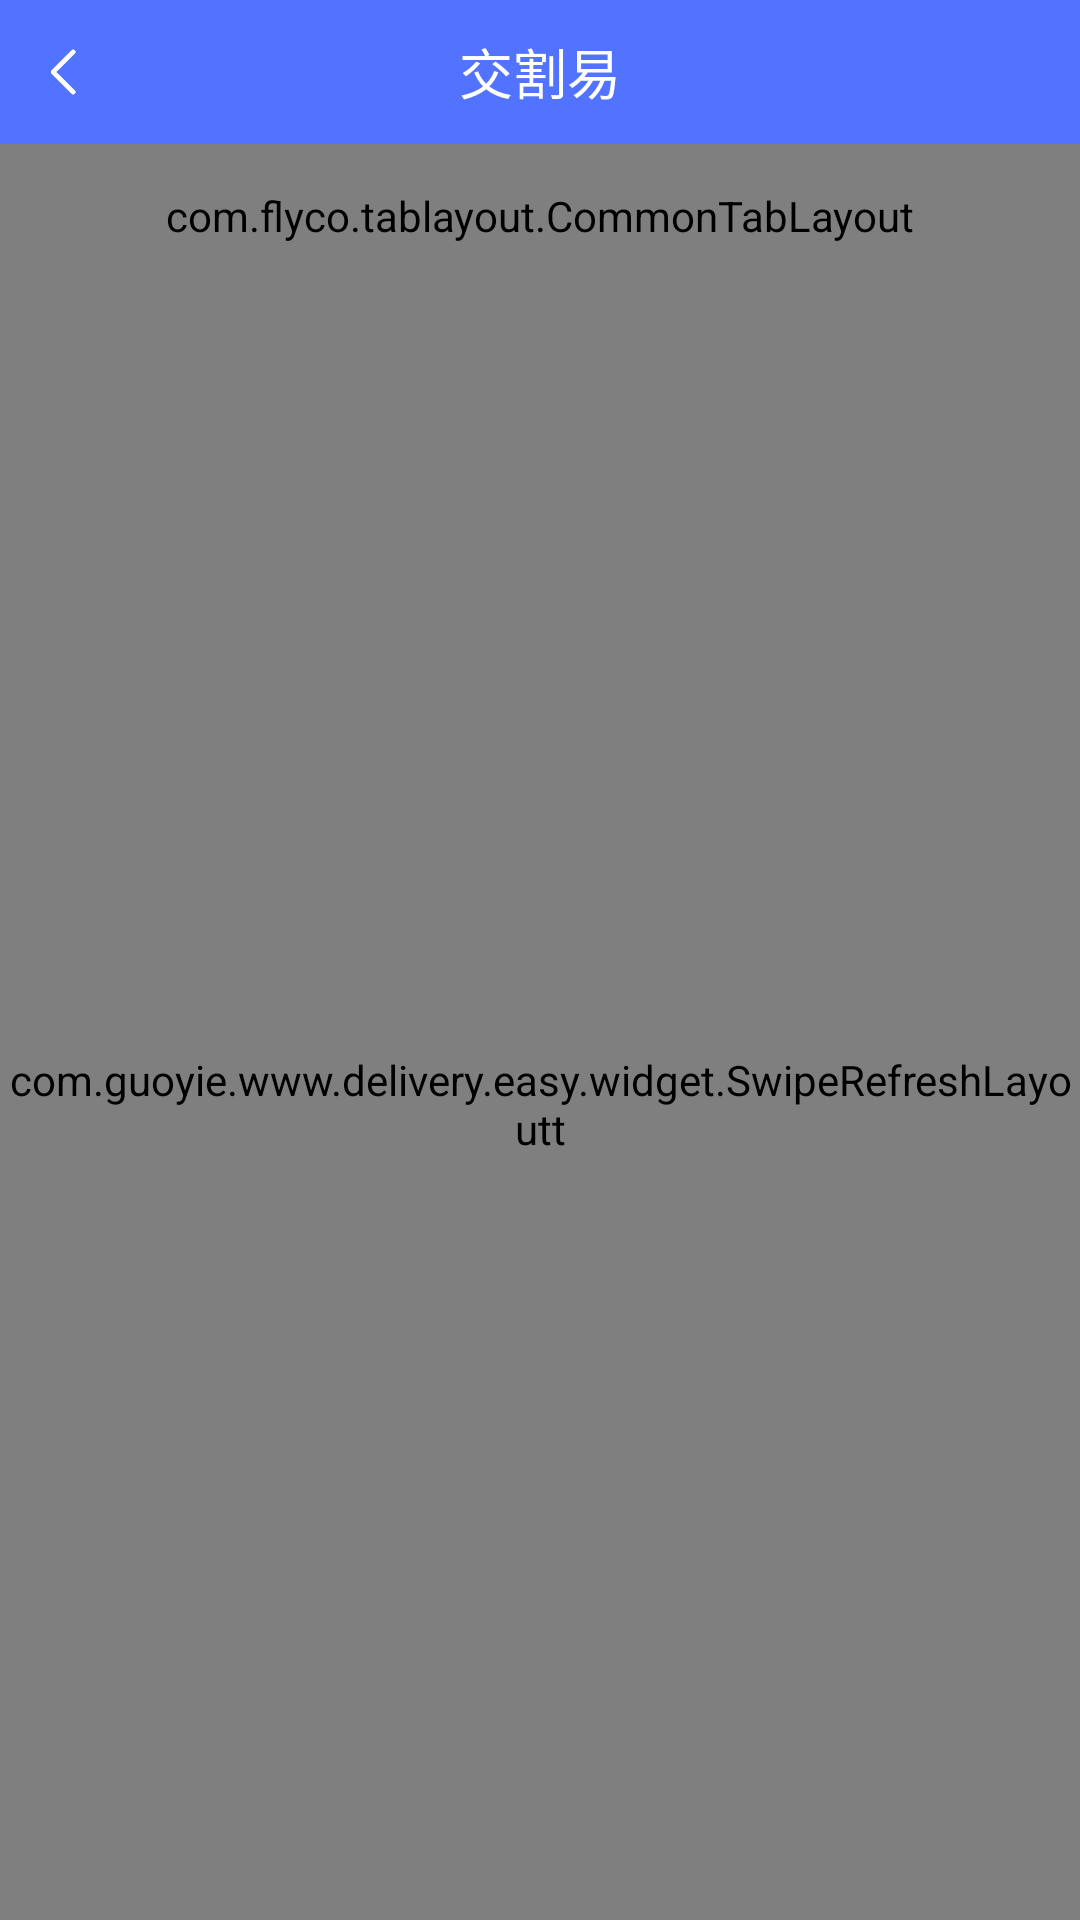

Screen size 1080 × 1920. Icon name, then its box in pixels as (x1, y1, x2, y2):
left arrow: (51, 49, 76, 95)
